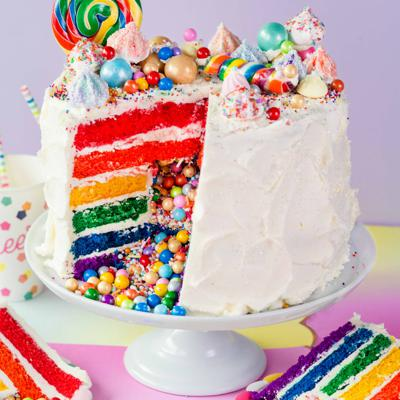cake: (34, 23, 355, 311)
